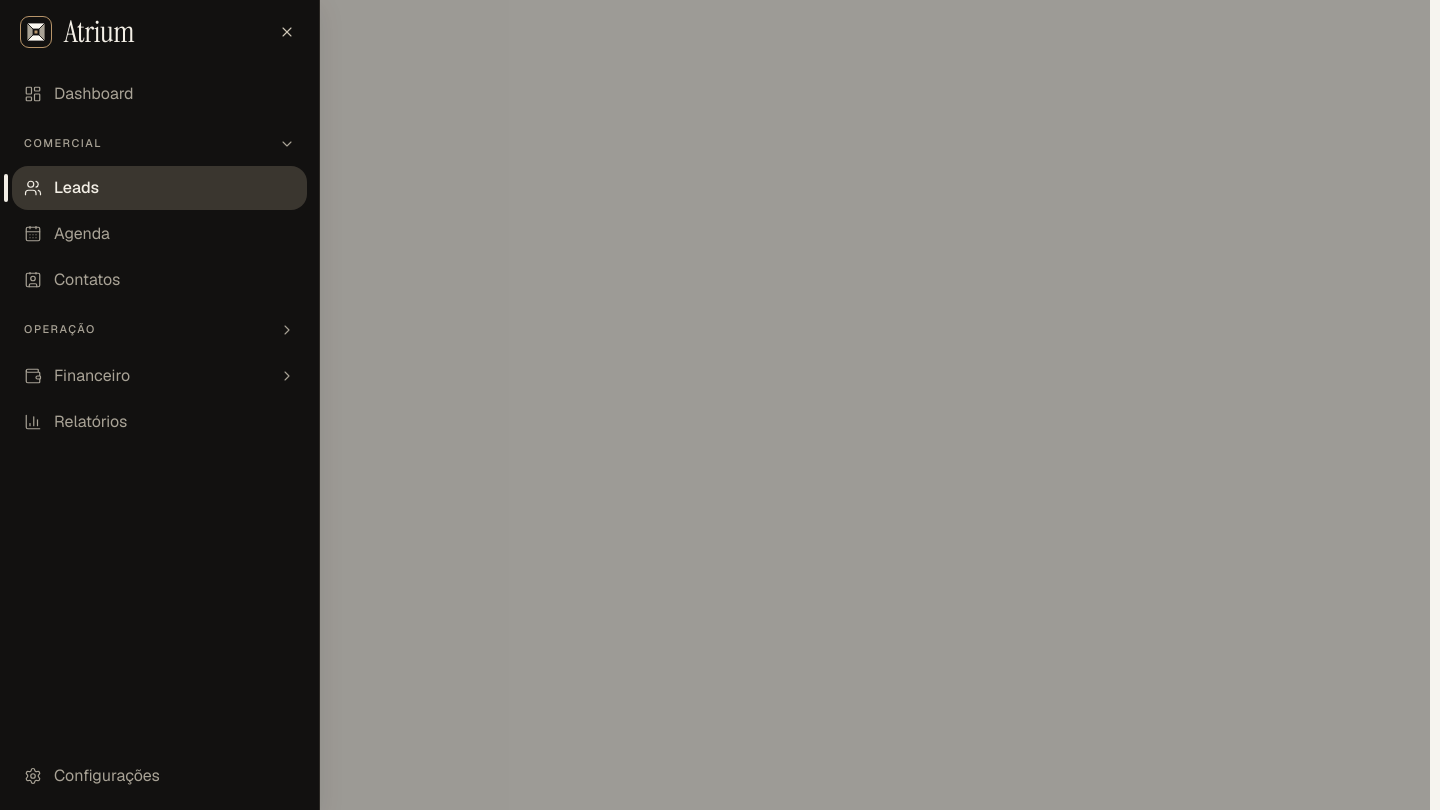
Test: MobileNav (RF-01, RF-63) › grupo da rota atual aberto e o outro recolhido
Expected: the link "Imóveis" is not shown
Click the button "Operação".
click(60, 329)  # box [12, 308, 307, 352]
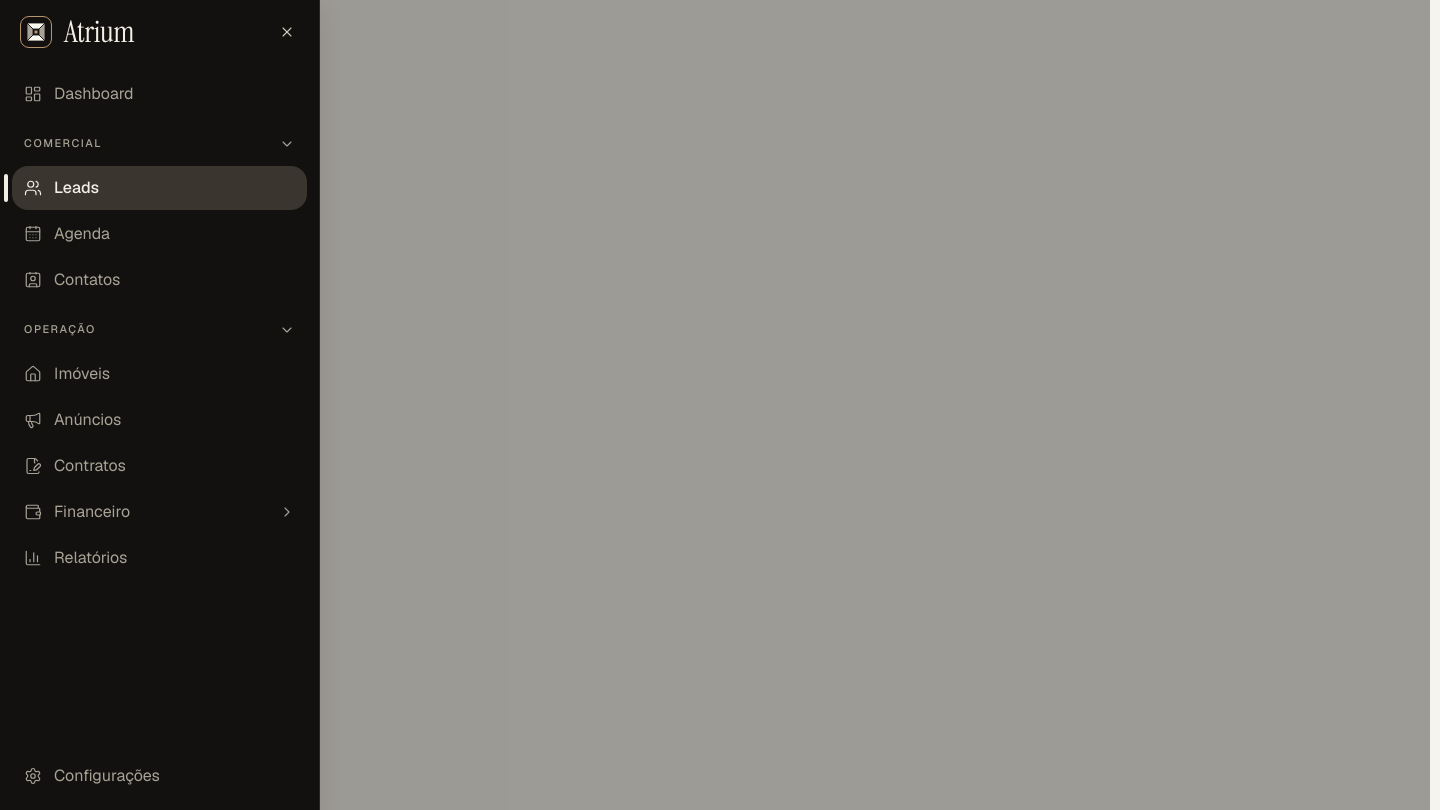
Result: the link "Imóveis" is shown at [24, 363, 110, 384]
